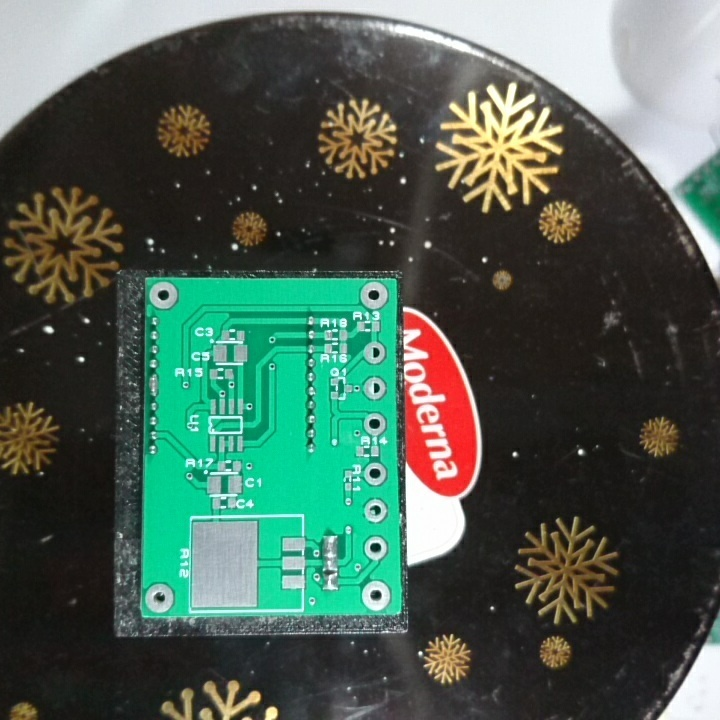F: (143, 580, 177, 614), (148, 280, 182, 314), (360, 580, 393, 613), (357, 280, 390, 311), (361, 496, 390, 527), (361, 535, 391, 563), (361, 376, 388, 403), (362, 412, 388, 440), (362, 340, 388, 366), (362, 462, 388, 488)
P: (320, 534, 341, 571), (146, 371, 162, 399)
